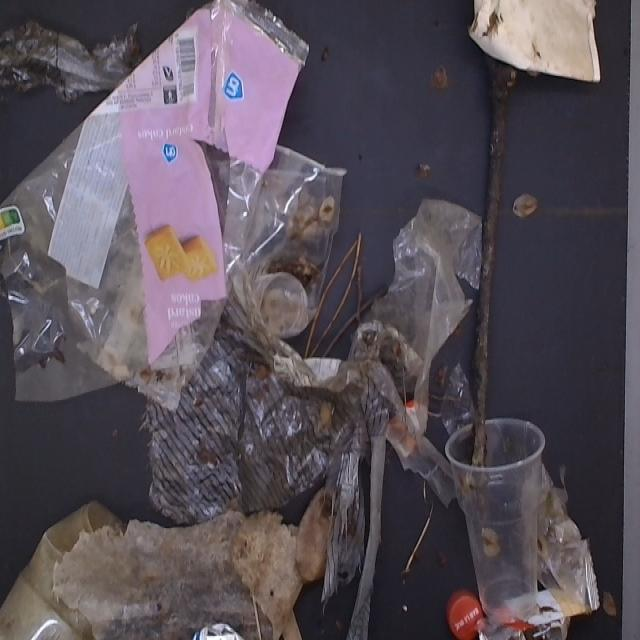caps_and_lids: (440, 576, 489, 640)
drinking_cans: (190, 618, 248, 640)
food_packaging: (474, 0, 609, 97)
plastic_cups: (230, 116, 341, 374), (436, 408, 554, 630), (0, 497, 122, 640)
plastic_films: (0, 0, 308, 434), (148, 302, 387, 623), (357, 193, 479, 463), (0, 3, 175, 114), (523, 464, 608, 620)
